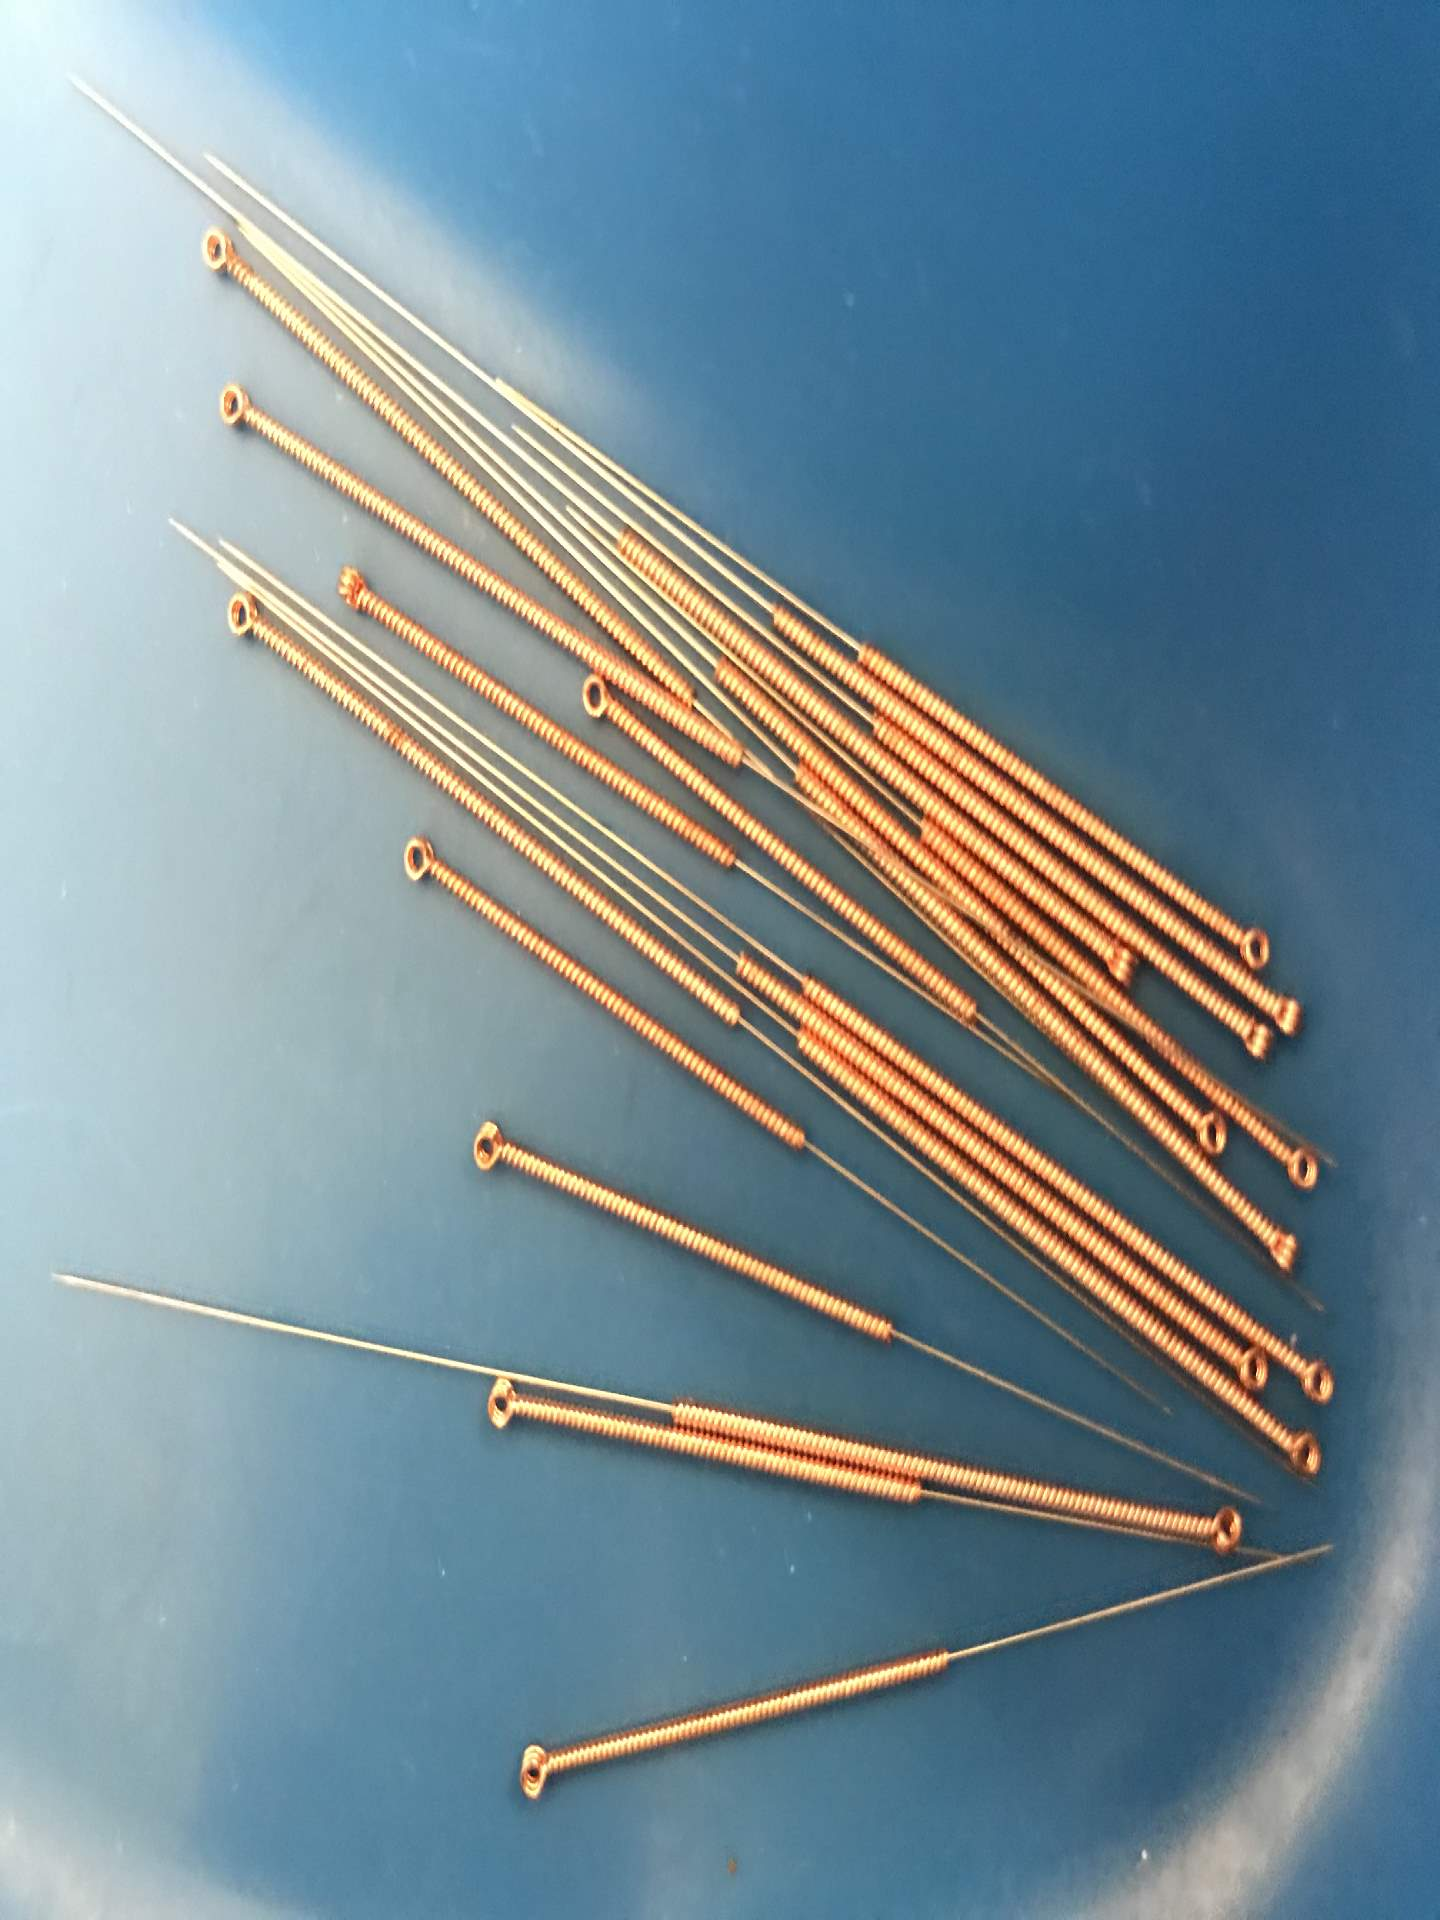needle: (498, 1730, 570, 1814), (464, 1365, 531, 1451), (1187, 1488, 1257, 1568), (454, 1107, 523, 1187), (386, 822, 452, 900), (200, 370, 266, 447), (186, 218, 250, 293), (1269, 1420, 1337, 1488), (1252, 1217, 1314, 1290), (1289, 1346, 1349, 1420), (213, 584, 278, 652), (1271, 1131, 1328, 1200), (324, 556, 384, 620), (1224, 1341, 1275, 1395), (1190, 1101, 1234, 1163), (569, 670, 614, 729), (1101, 936, 1147, 993), (1233, 919, 1278, 977), (1268, 981, 1311, 1039), (1227, 1019, 1280, 1066)
